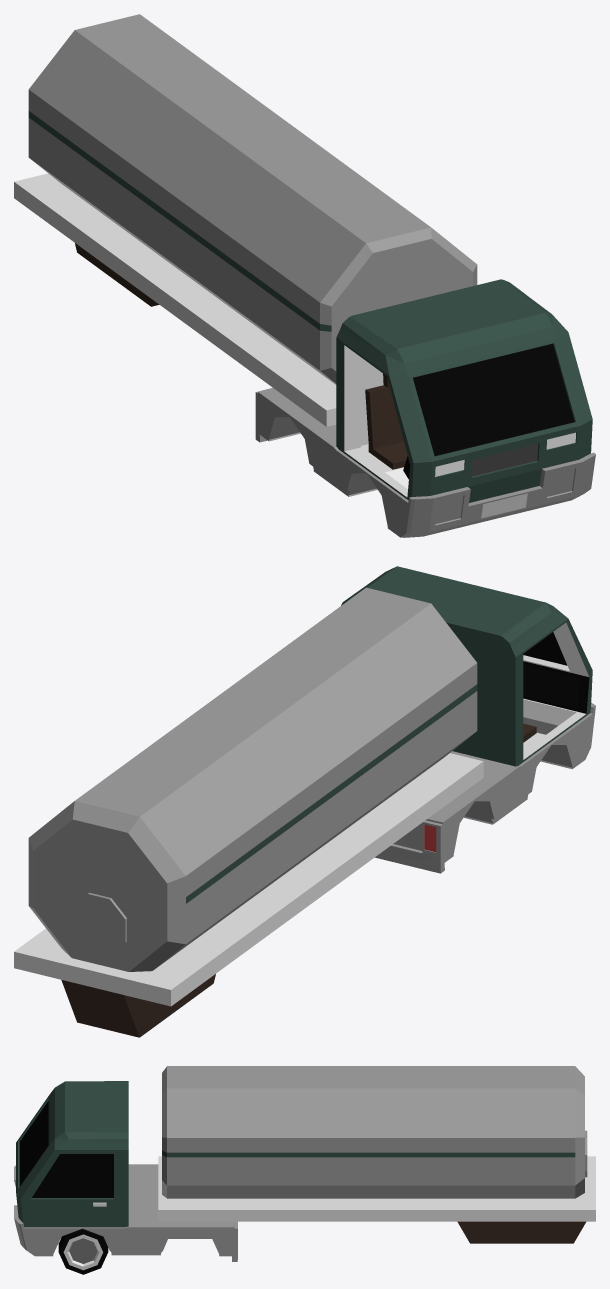
File: Tanker.fbx
3 renders of one model, top to bottom at view 1: azimuth 30°, elevation 25°; view 2: azimuth 150°, elevation 25°; view 3: azimuth 270°, elevation 25°, orthographic. The views are drawn at different scales.
Visible parts, largest first — view 1: Tanker, Tanker Truck; view 2: Tanker, Tanker Truck; view 3: Tanker, Tanker Truck, Door, Wheel.
Part boxes in pixels (x1,y1,x2,y2): Tanker: (14, 14, 477, 426); Tanker Truck: (255, 279, 595, 537); Tanker: (14, 587, 483, 1037); Tanker Truck: (341, 566, 595, 873); Tanker: (158, 1066, 595, 1243); Tanker Truck: (14, 1081, 237, 1261); Door: (25, 1151, 117, 1225); Wheel: (58, 1228, 108, 1274).
Size of the model in its own units: 283 by 352 by 1100.
